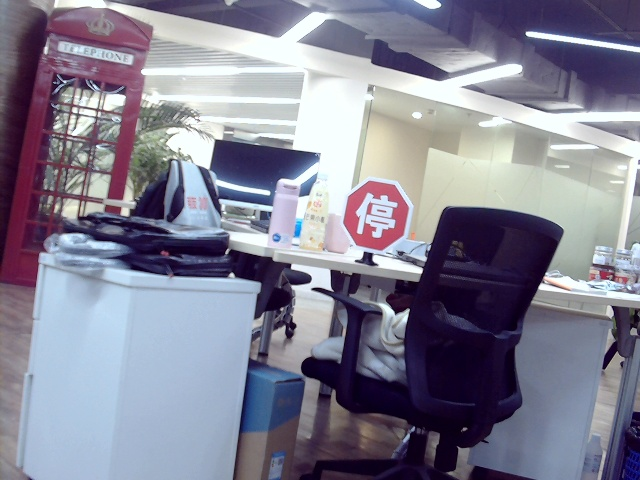stop: (357, 190, 397, 237)
